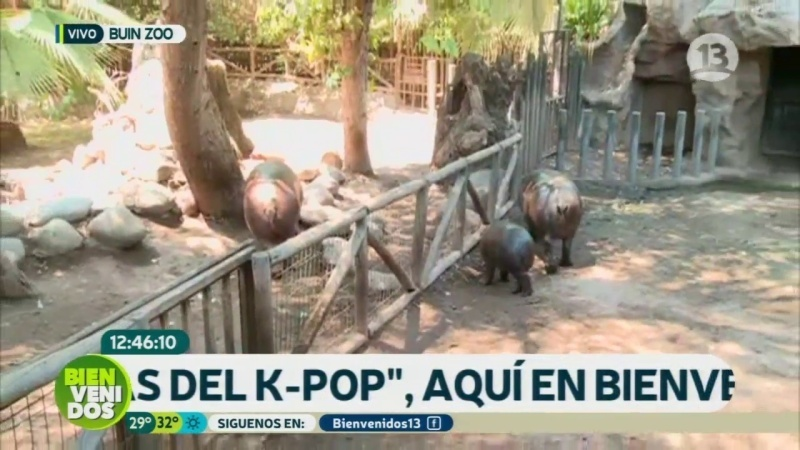hipopotamo: (225, 151, 320, 258), (511, 163, 586, 278), (469, 214, 546, 310)
